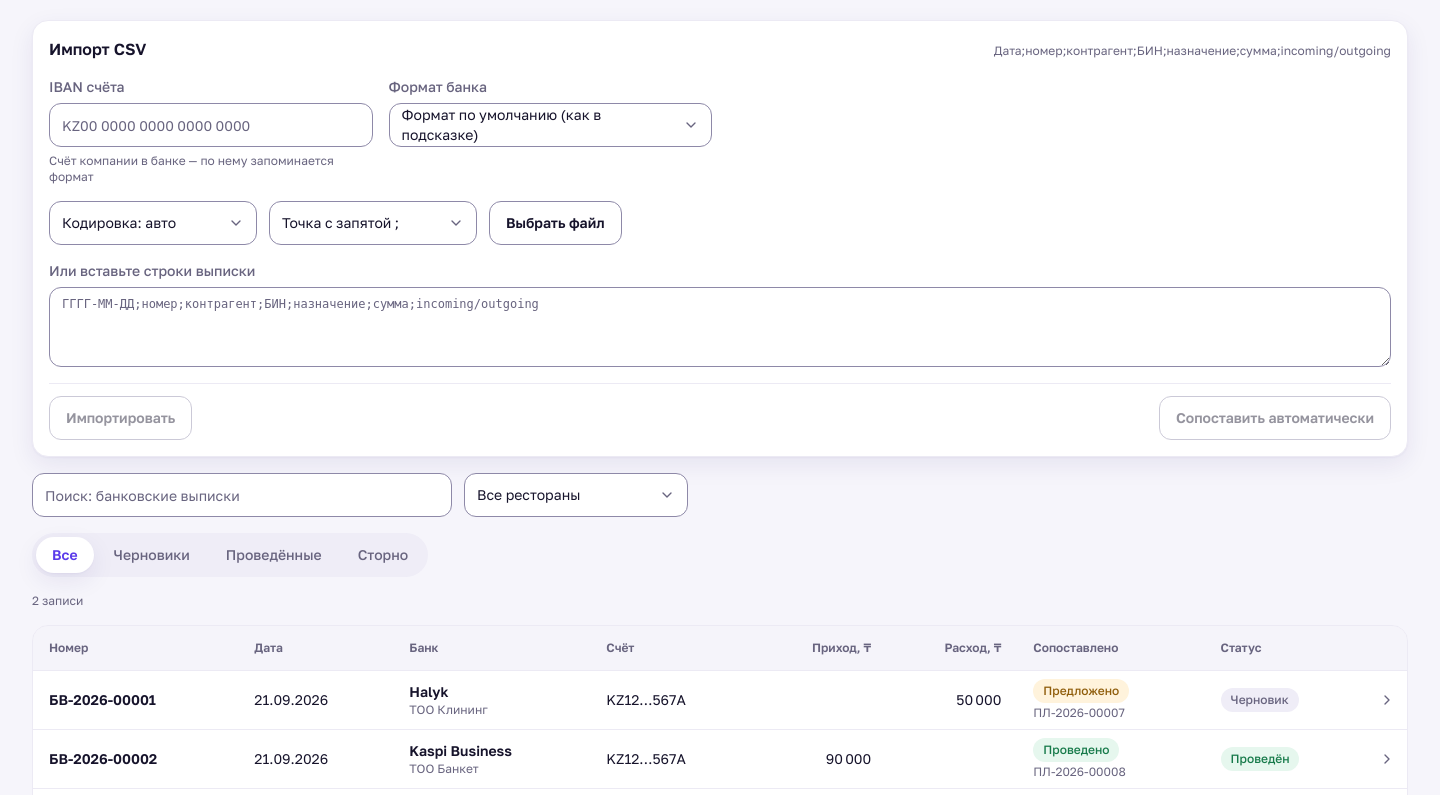
«Банковские выписки» (W3-FIN-11) › an unverified preset says so; a line with errors blocks the import
The width and height of the screenshot is (1440, 795).
Type "KZ12345678901234567A" into the field labelled "IBAN счёта" at point(211, 125), box [49, 103, 372, 147]
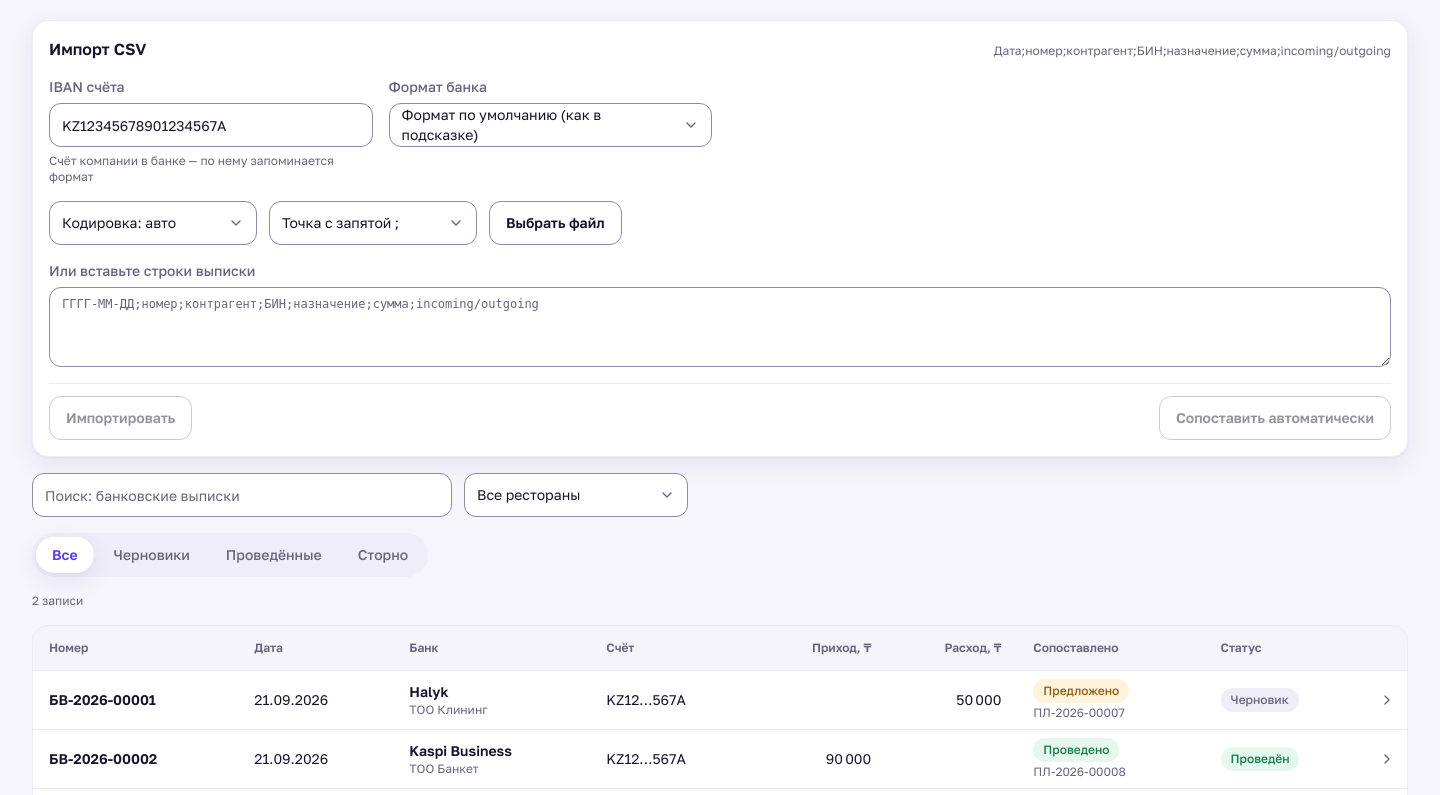
Replace the text in the text box labelled "Или вставьте строки выписки" with "2026-09-21;11;ТОО;123;Оплата;50000;outgoing" at point(720, 327), box [49, 287, 1391, 367]
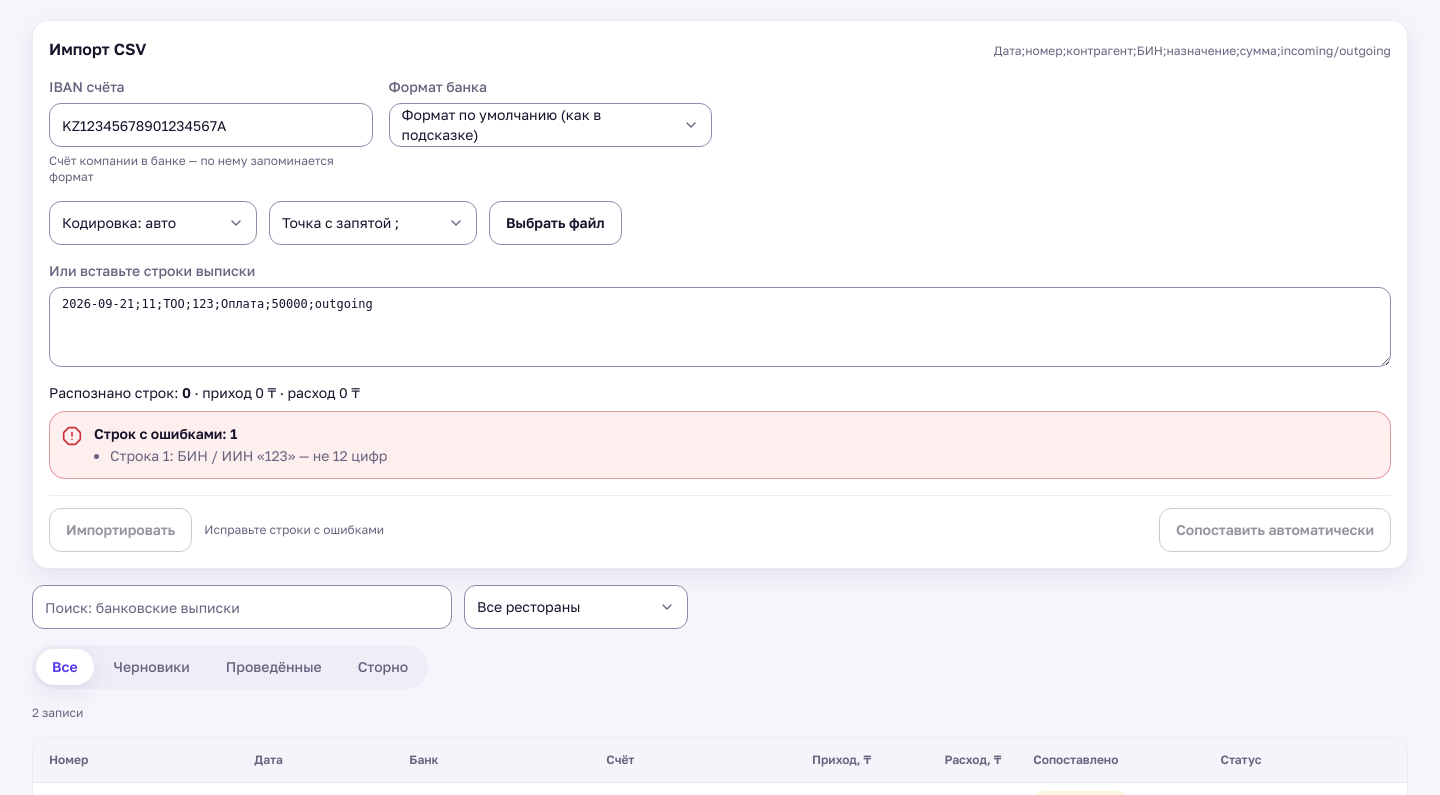
Expected: the button "Импортировать" is disabled, [49, 508, 192, 552]
Result: the list item "Строка 1: БИН / ИИН «123» — не 12 цифр" is shown at [110, 447, 387, 464]
